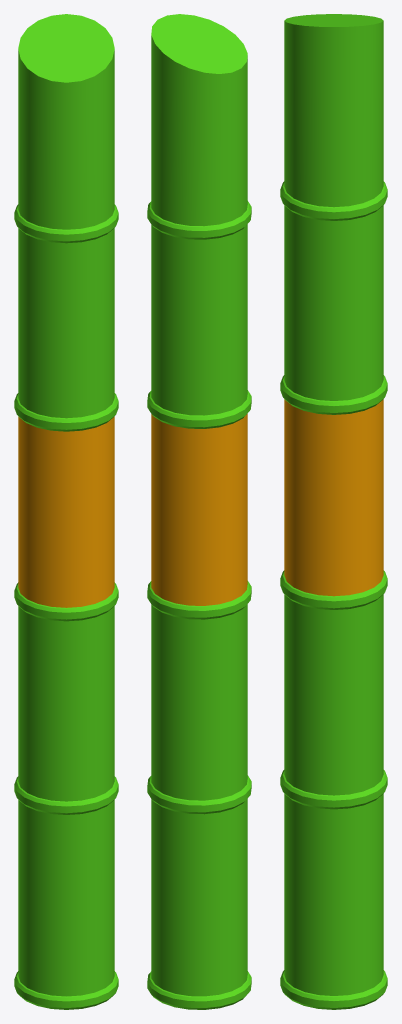
The model's file is bamboo.fbx.
3 views of the same model, side by side, from view 1: azimuth 90°, elevation 25°; view 2: azimuth 150°, elevation 25°; view 3: azimuth 270°, elevation 25° (orthographic). The views are drawn at different scales.
Visible parts, largest first — view 1: pCylinder7; view 2: pCylinder7; view 3: pCylinder7.
Boxes of the visible parts, <box> form: pCylinder7: <box>14,14,118,1009</box>; pCylinder7: <box>147,14,251,1009</box>; pCylinder7: <box>280,14,387,1009</box>.
Bounding box in the file's own units: 86.96 × 878 × 86.96.
